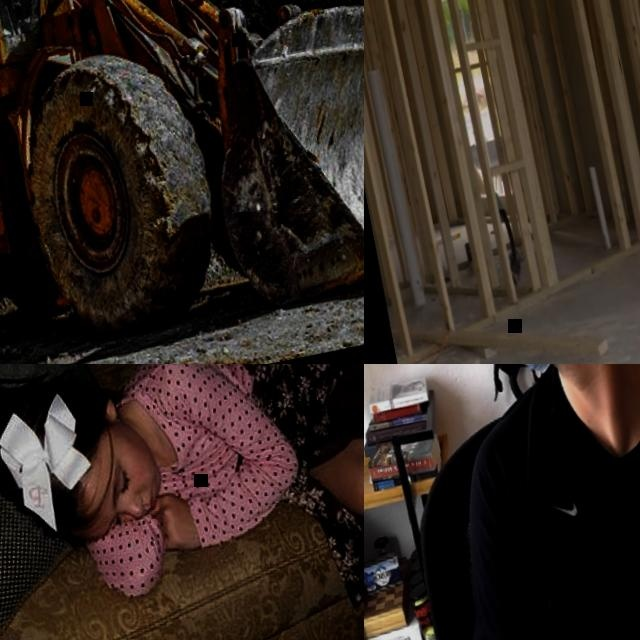NO-Hardhat: (0, 364, 129, 552)
NO-Mask: (128, 443, 169, 515)
NO-Safety Vest: (495, 364, 640, 640), (133, 364, 269, 508)
Person: (0, 364, 364, 624), (371, 364, 640, 640)
machinery: (0, 0, 364, 364)
